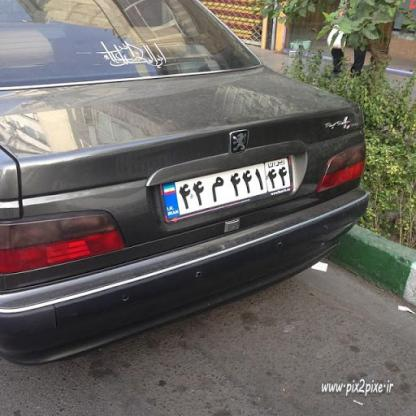licence: (158, 154, 291, 224)
